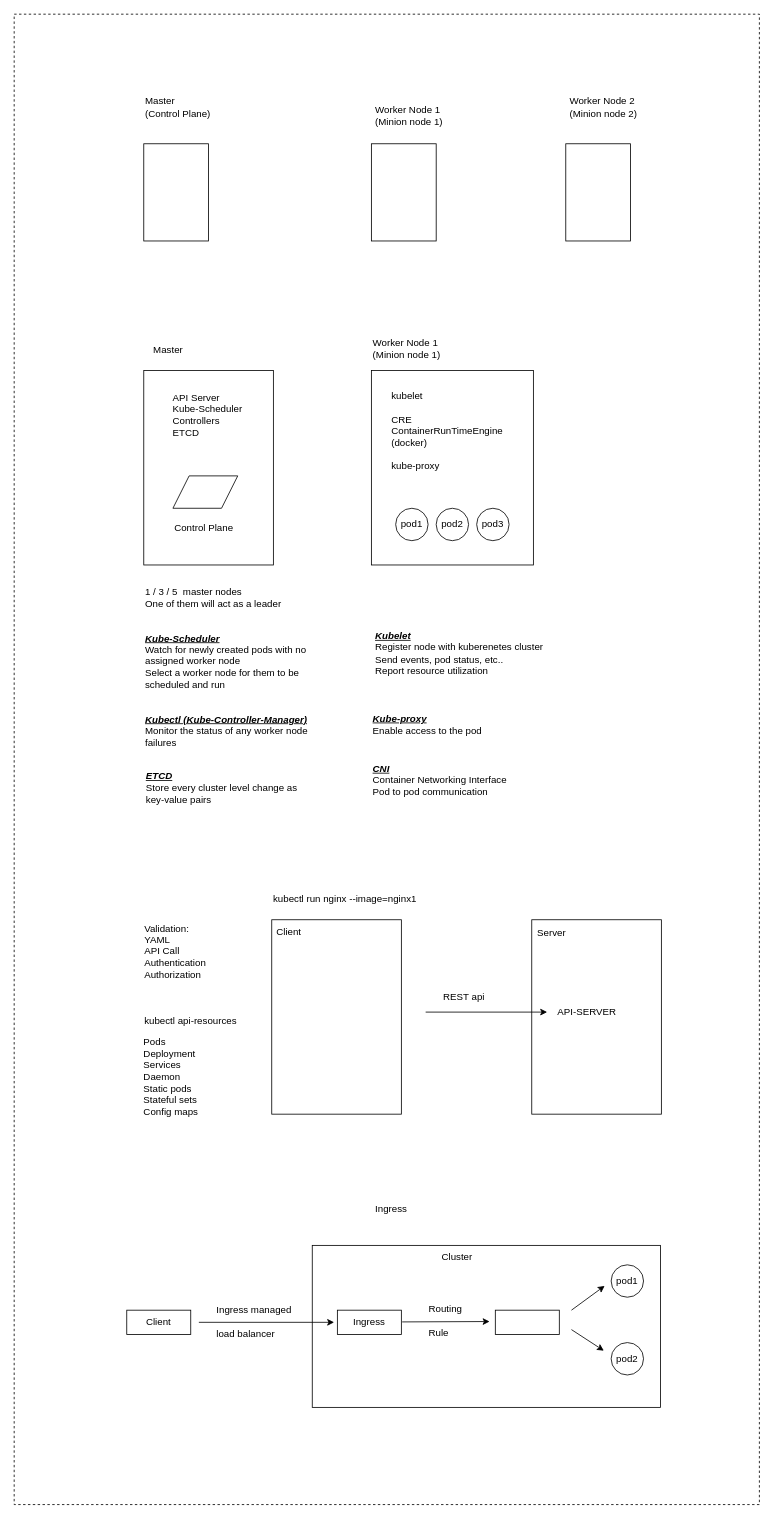
This 774x1519 diagram has some shape labels left out. Each missing label, with the box of its shape:
kubectl: (172, 475, 238, 508)
Service: (495, 1309, 559, 1334)
